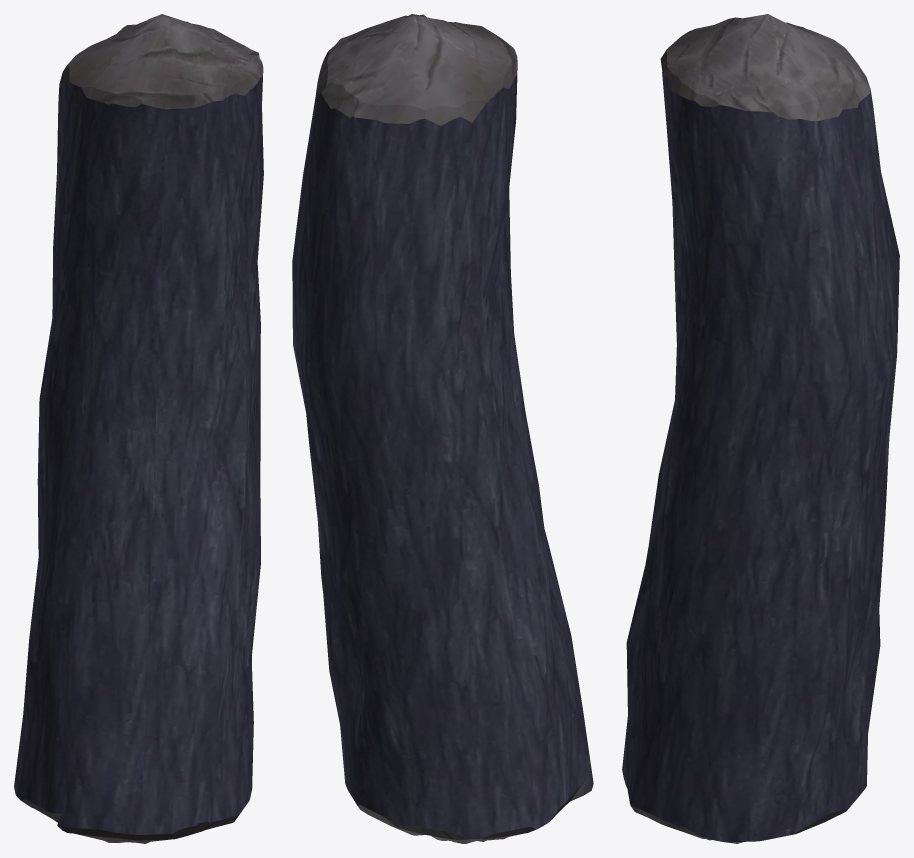
The picture shows the model from 3 angles, left to right: view 1: azimuth 30°, elevation 25°; view 2: azimuth 150°, elevation 25°; view 3: azimuth 270°, elevation 25°; orthographic projection. The views are drawn at different scales.
Visible parts, largest first — view 1: SM_Willow_03_quarter_02_LOD0; view 2: SM_Willow_03_quarter_02_LOD0; view 3: SM_Willow_03_quarter_02_LOD0.
Part boxes in pixels (bbox=[...]): SM_Willow_03_quarter_02_LOD0: bbox=[14, 14, 263, 843]; SM_Willow_03_quarter_02_LOD0: bbox=[292, 14, 593, 843]; SM_Willow_03_quarter_02_LOD0: bbox=[622, 14, 899, 843].
Size of the model in its own units: 0.8241 by 2.74 by 0.8209.
Materials: 1 (1 with a texture image).
